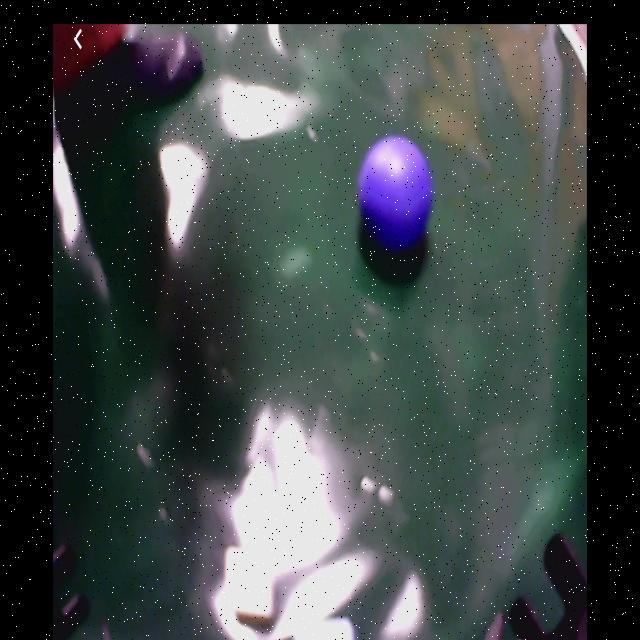ball: (362, 138, 434, 252)
